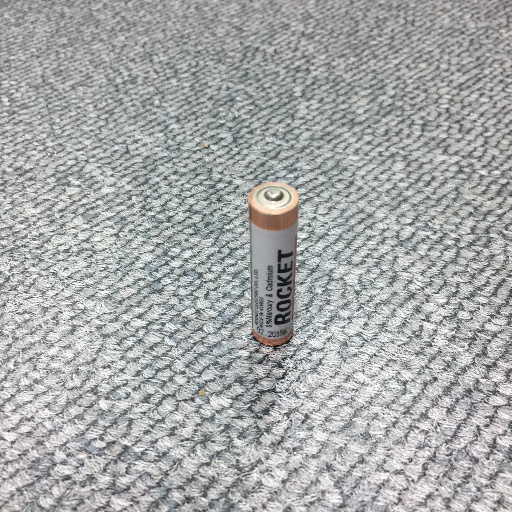Battery_0: (243, 174, 303, 355)
